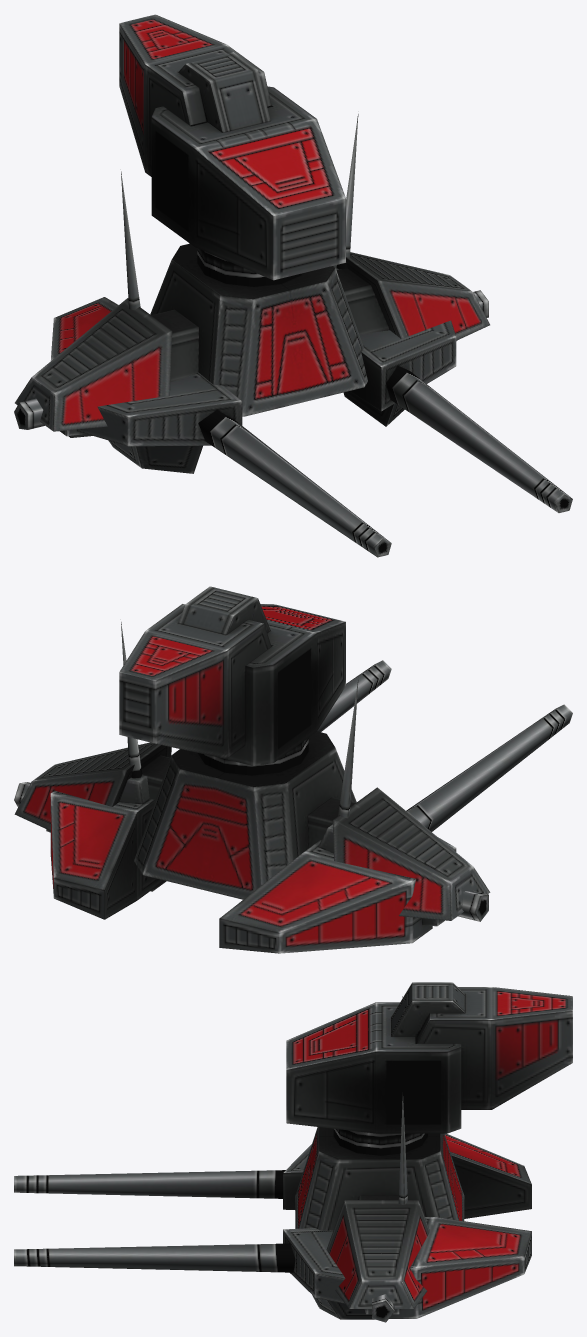
The model's file is turret_2_game.obj.
The picture shows the model from 3 angles, top to bottom: view 1: azimuth 30°, elevation 25°; view 2: azimuth 150°, elevation 25°; view 3: azimuth 270°, elevation 25°; orthographic projection. The views are drawn at different scales.
Parts seen in each view (by area): view 1: turret_2_bottom, Object002, Object001; view 2: turret_2_bottom, Object001, Object002; view 3: Object002, Object001, turret_2_bottom.
Boxes of the visible parts, x1=… form: turret_2_bottom: x1=15, y1=243, x2=489, y2=431; Object002: x1=119, y1=14, x2=345, y2=286; Object001: x1=14, y1=114, x2=572, y2=557; turret_2_bottom: x1=14, y1=731, x2=490, y2=920; Object001: x1=14, y1=622, x2=572, y2=953; Object002: x1=119, y1=586, x2=345, y2=775; Object002: x1=286, y1=982, x2=572, y2=1155; Object001: x1=14, y1=996, x2=531, y2=1322; turret_2_bottom: x1=295, y1=1127, x2=464, y2=1308.
Size of the model in its own units: 0.8744 by 0.6044 by 1.1.
